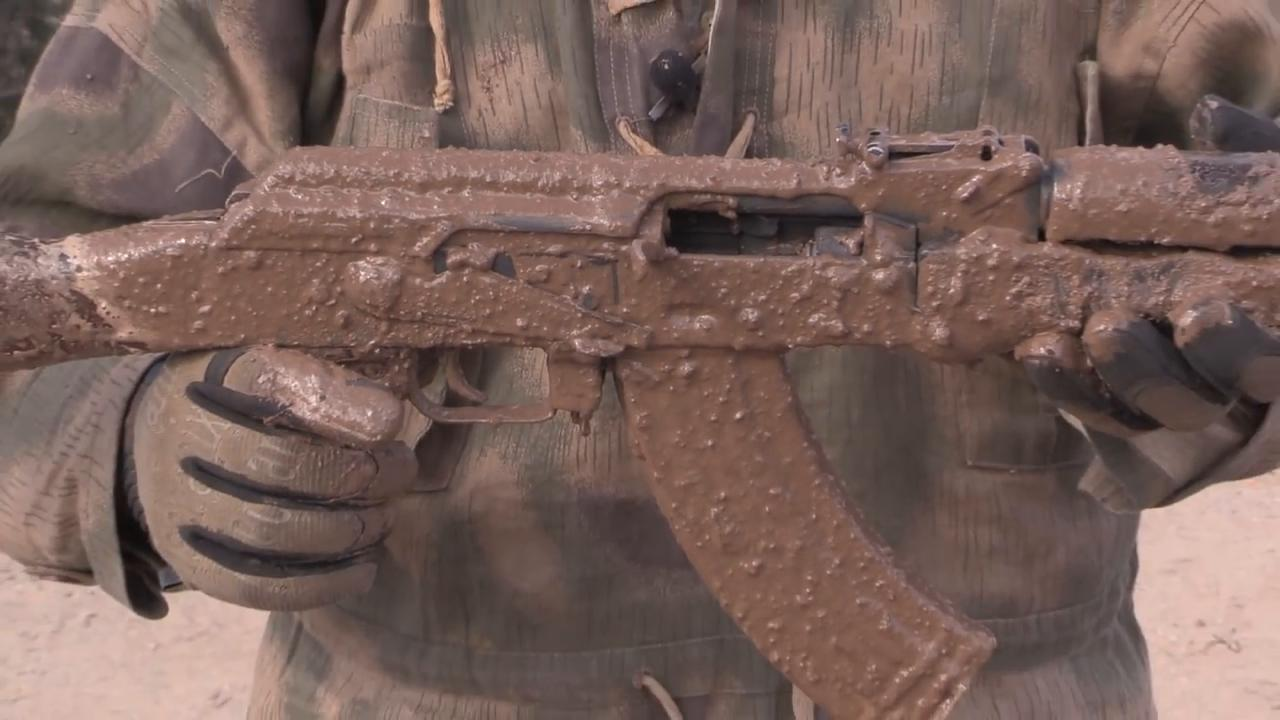AK47 Rifle: (3, 127, 1280, 719)
